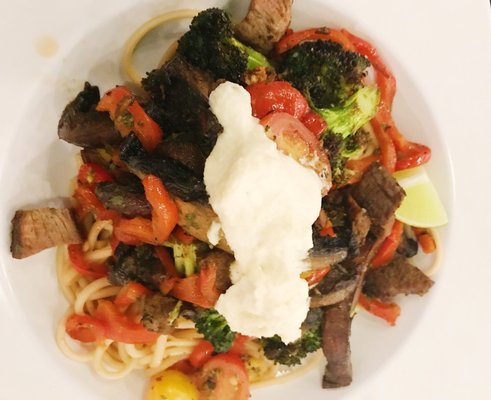curry: (279, 39, 380, 139), (177, 7, 272, 83), (192, 307, 235, 352)
